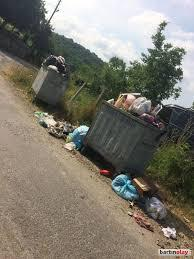Container: (78, 100, 173, 171), (31, 66, 67, 108)
Garbage: (36, 108, 66, 144), (110, 171, 140, 204), (144, 197, 177, 227), (42, 47, 73, 76), (34, 110, 69, 128), (69, 121, 91, 146), (130, 177, 155, 198), (131, 94, 151, 117), (145, 112, 164, 131), (117, 90, 133, 112), (165, 225, 183, 244), (98, 165, 110, 179), (47, 63, 58, 74), (47, 53, 60, 62), (106, 93, 115, 104), (59, 68, 72, 75)
